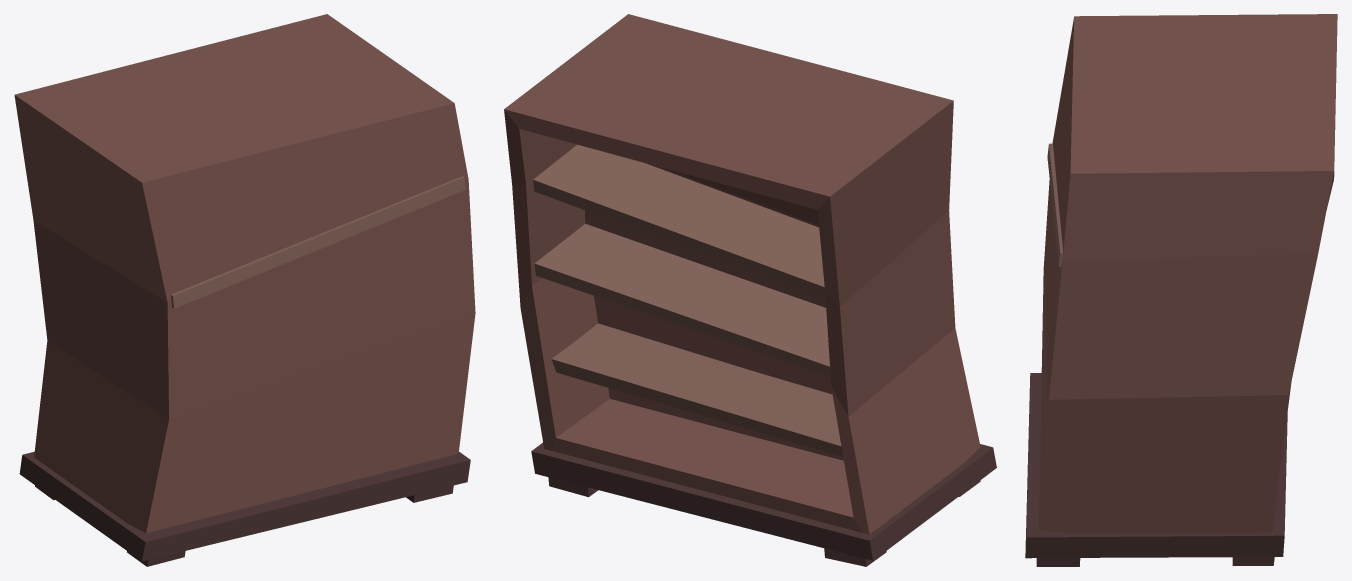
Rendered from LightRoseWoodMechMediumBookshelf1.fbx.
3 renders of one model, left to right at view 1: azimuth 30°, elevation 25°; view 2: azimuth 150°, elevation 25°; view 3: azimuth 270°, elevation 25°, orthographic. The views are drawn at different scales.
Visible parts, largest first — view 1: LightRoseWoodMechMediumBookshelf1; view 2: LightRoseWoodMechMediumBookshelf1; view 3: LightRoseWoodMechMediumBookshelf1.
Part boxes in pixels (x1,y1,x2,y2): LightRoseWoodMechMediumBookshelf1: (14,14,475,566); LightRoseWoodMechMediumBookshelf1: (504,14,996,566); LightRoseWoodMechMediumBookshelf1: (1025,14,1337,566).
Bounding box in the file's own units: 338 × 352 × 247.
